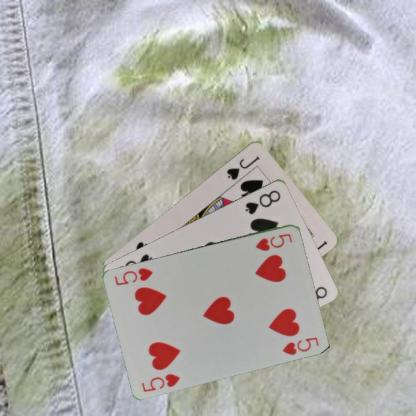5h: (140, 370, 182, 393), (253, 230, 294, 252)
8s: (242, 187, 282, 216)
Js: (224, 153, 261, 181)
